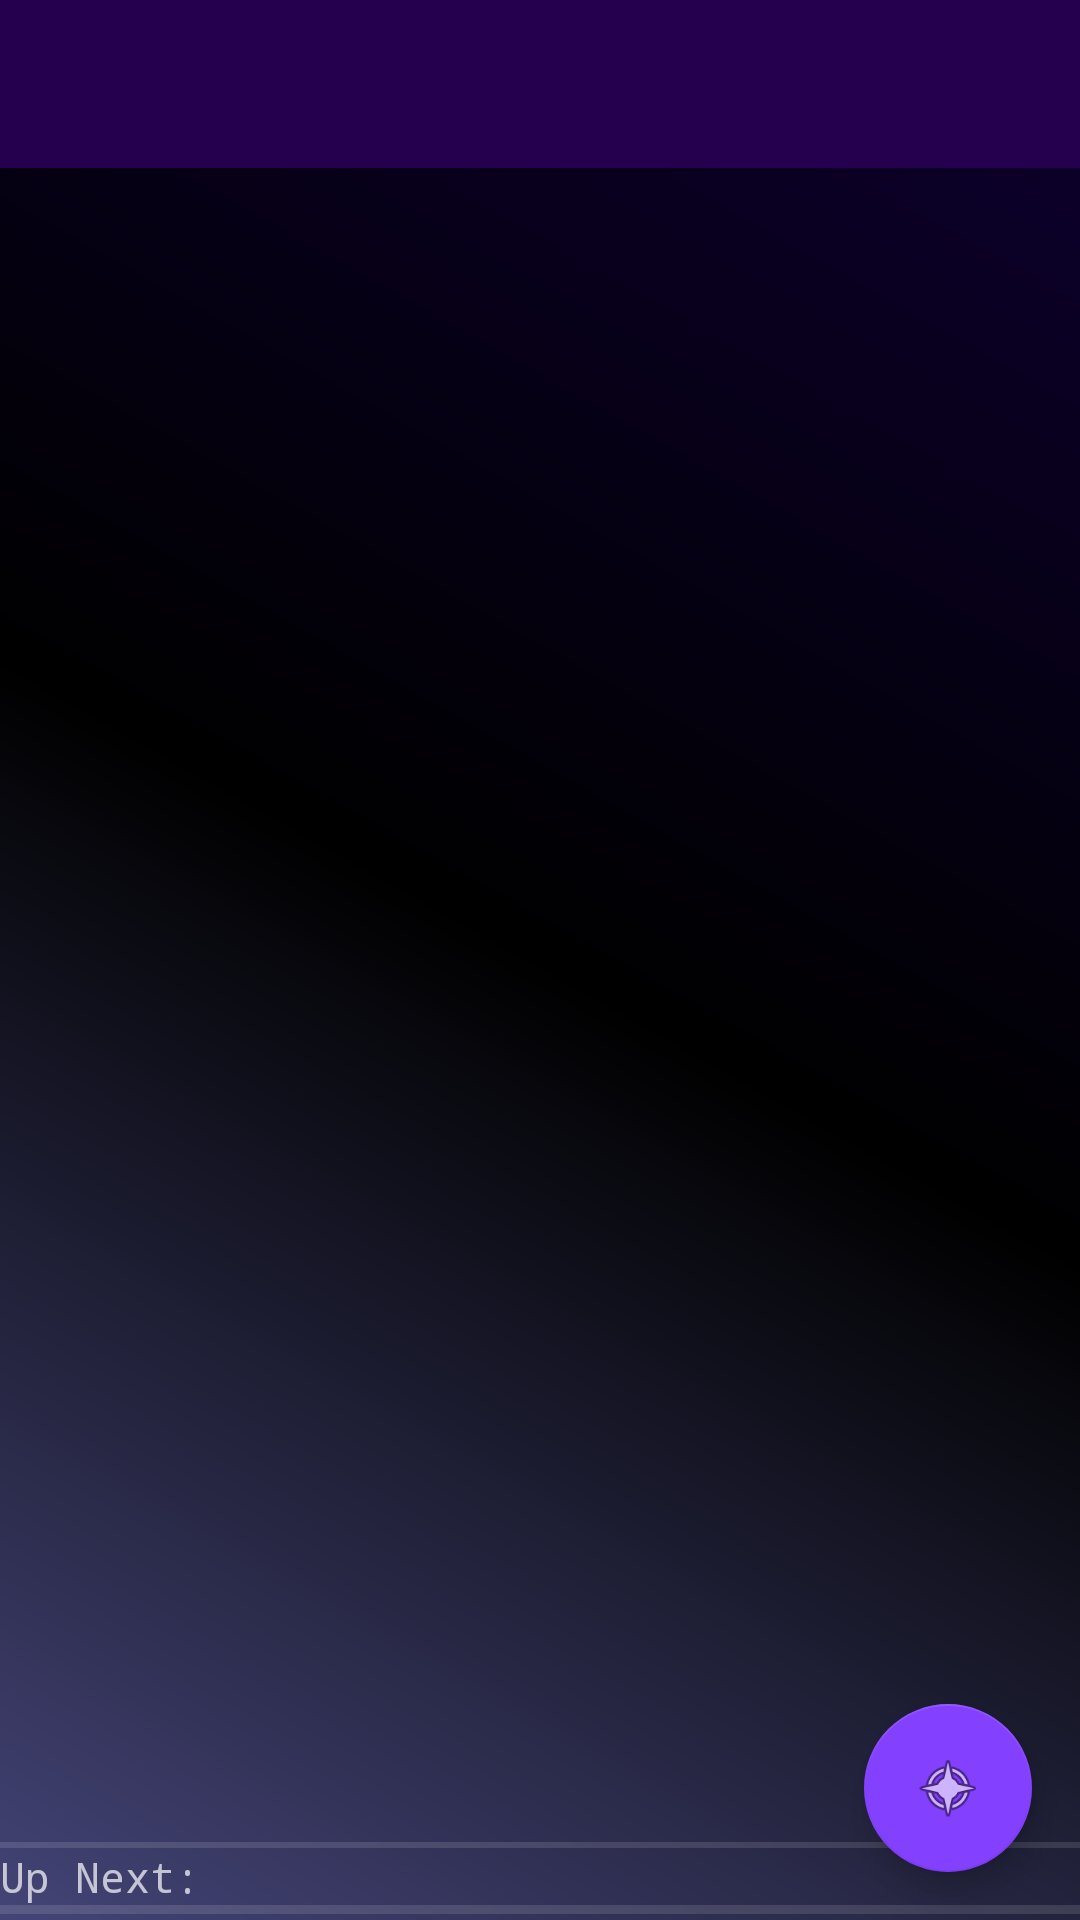

Locate icon controls on the screen. Image size 1080 x 1920, boxes as {"x1": x1, "y1": y1, "x2": x2, "y2": y2}.
compass: {"x1": 864, "y1": 1704, "x2": 1032, "y2": 1872}
